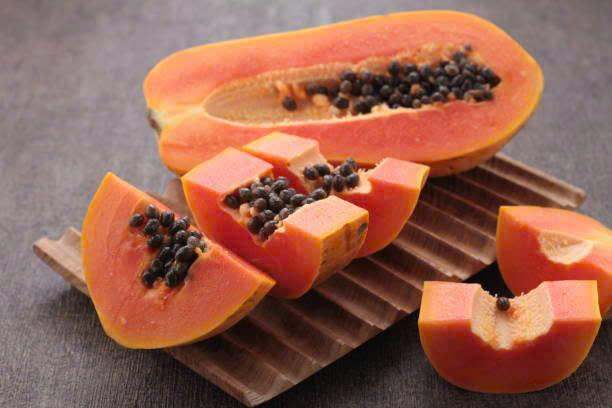papaya: (139, 6, 546, 166), (85, 166, 277, 363), (177, 134, 434, 273), (415, 277, 606, 400), (490, 199, 612, 277)
